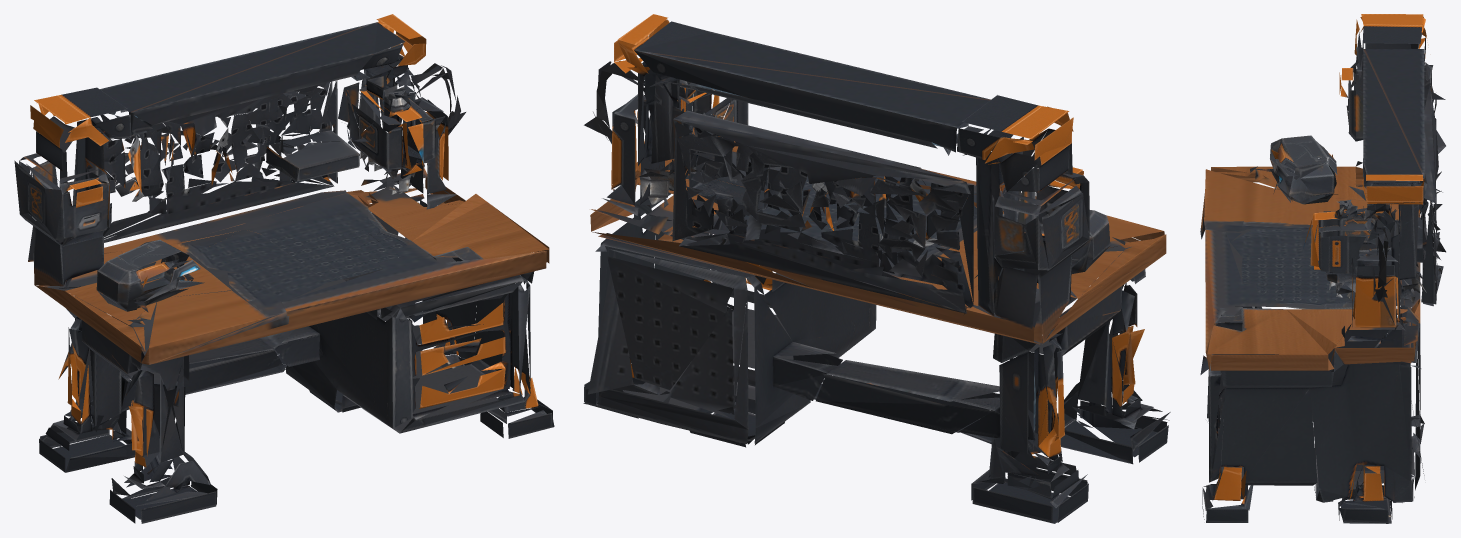
Rendered from workbench_composite_lod2.glb.
3 views of the same model, side by side, from view 1: azimuth 30°, elevation 25°; view 2: azimuth 150°, elevation 25°; view 3: azimuth 270°, elevation 25° (orthographic). The views are drawn at different scales.
Parts seen in each view (by area): view 1: LOD2; view 2: LOD2; view 3: LOD2.
Part boxes in pixels (left/top/right/bottom): LOD2: left=14, top=14, right=554, bottom=523; LOD2: left=583, top=14, right=1170, bottom=523; LOD2: left=1200, top=14, right=1445, bottom=523.
Size of the model in its own units: 1.6 by 1.23 by 0.8483.
Materials: 1 (1 with a texture image).
